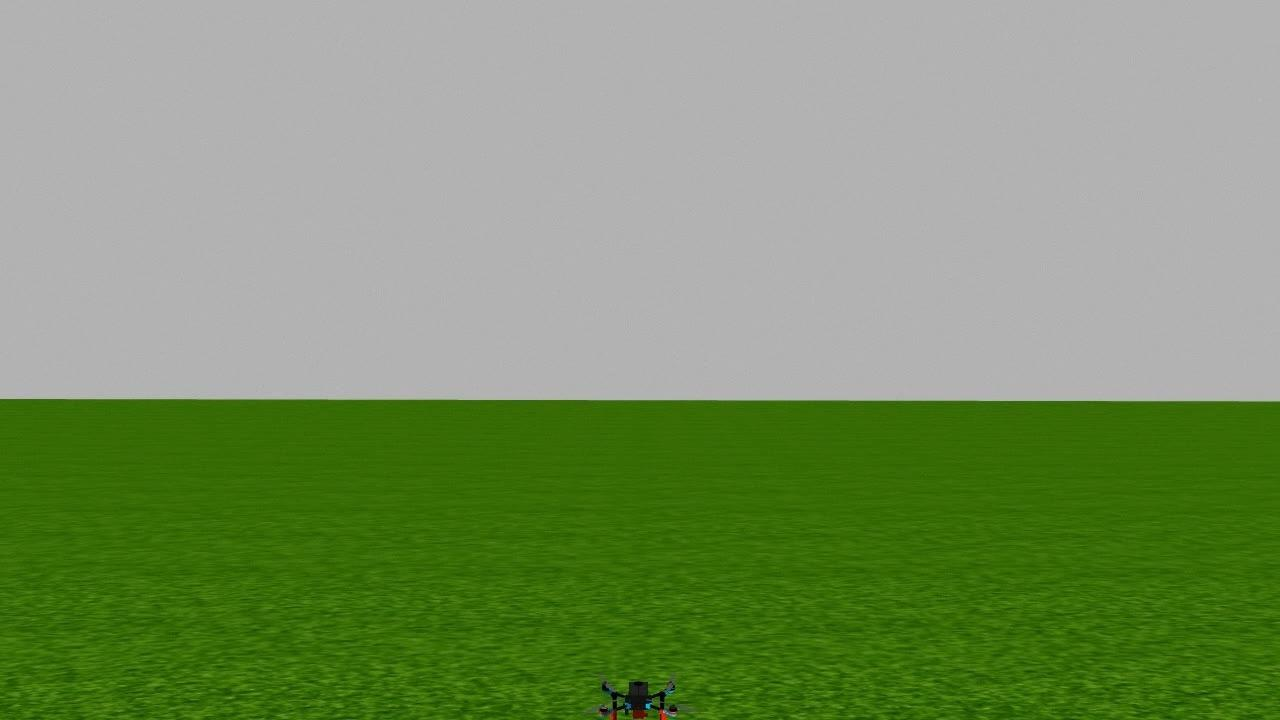UAV: (577, 649, 700, 720)
